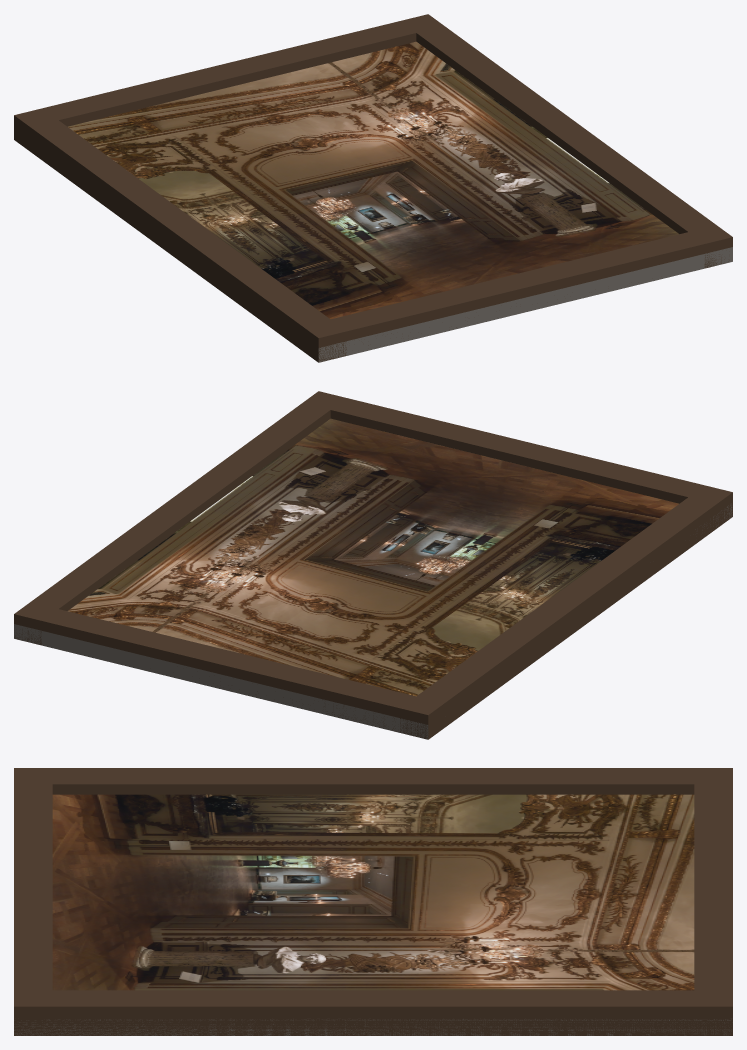
Rendered from framed_artwork.glb.
The picture shows the model from 3 angles, top to bottom: view 1: azimuth 30°, elevation 25°; view 2: azimuth 150°, elevation 25°; view 3: azimuth 270°, elevation 25°; orthographic projection. The views are drawn at different scales.
Parts seen in each view (by area): view 1: Artwork_Image_Front, Frame_Left, Frame_Right, Frame_Bottom, Frame_Top, Back_Board; view 2: Artwork_Image_Front, Frame_Left, Frame_Right, Frame_Bottom, Frame_Top, Back_Board; view 3: Artwork_Image_Front, Frame_Right, Frame_Left, Frame_Bottom, Frame_Top, Back_Board.
Part boxes in pixels (x1,y1,x2,y2): Artwork_Image_Front: [68, 41, 678, 319]; Frame_Left: [14, 108, 346, 362]; Frame_Right: [400, 14, 732, 268]; Frame_Bottom: [303, 225, 732, 361]; Frame_Top: [14, 14, 442, 126]; Back_Board: [318, 247, 732, 362]; Artwork_Image_Front: [68, 418, 678, 696]; Frame_Left: [400, 489, 732, 739]; Frame_Right: [14, 392, 346, 645]; Frame_Bottom: [303, 391, 732, 518]; Frame_Top: [14, 602, 439, 731]; Back_Board: [14, 503, 732, 739]; Artwork_Image_Front: [52, 794, 694, 990]; Frame_Right: [14, 990, 732, 1035]; Frame_Left: [14, 768, 732, 794]; Frame_Bottom: [14, 768, 52, 1035]; Frame_Top: [694, 768, 732, 1034]; Back_Board: [14, 1018, 732, 1035].
Bounding box in the file's own units: 1.76 × 0.1 × 2.24.
3 materials, 1 textured.
